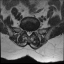CCS_normal: (28, 28, 30, 38)
LFS_stenosis: (32, 28, 34, 34)
LLS_normal: (30, 28, 32, 36)
RFS_stenosis: (24, 27, 26, 34)
RLS_normal: (26, 28, 28, 36)
